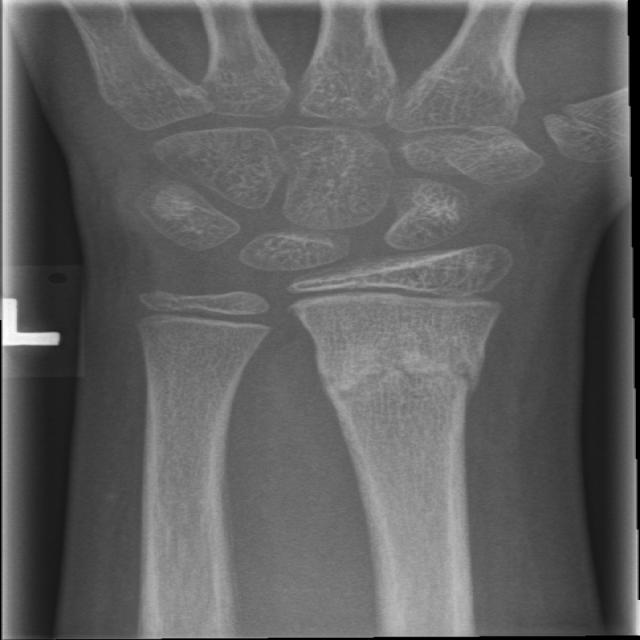radius fracture: (296, 330, 551, 460)
